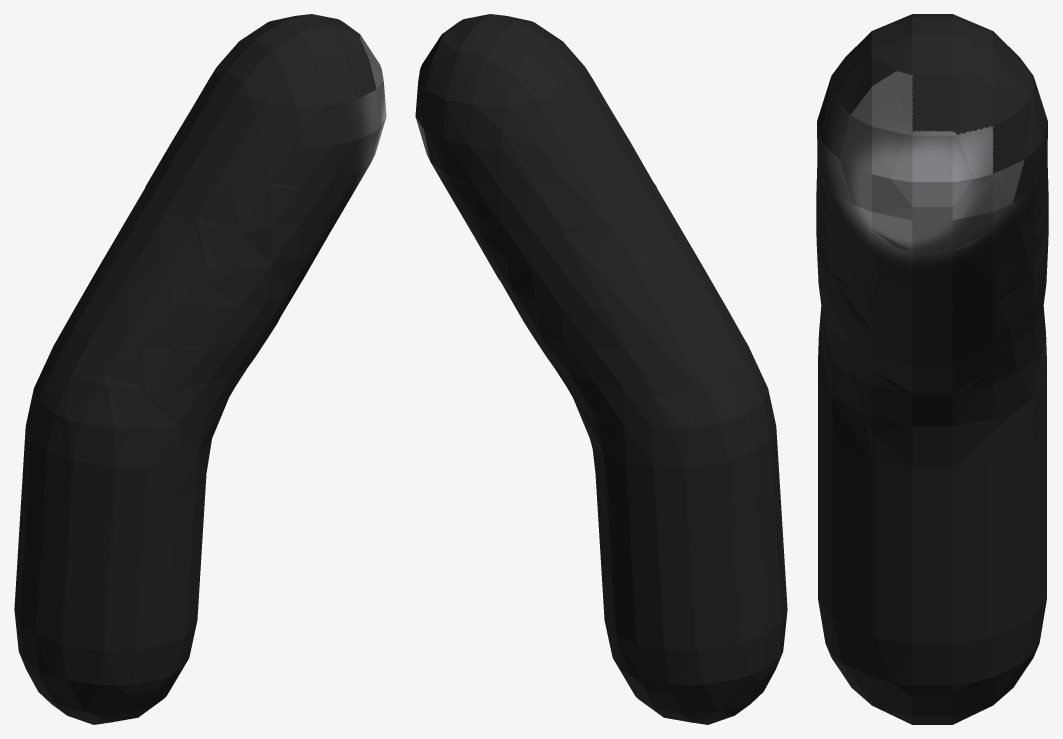
Rendered from PINCER_FINGER2.glb.
The picture shows the model from 3 angles, left to right: view 1: azimuth 30°, elevation 25°; view 2: azimuth 150°, elevation 25°; view 3: azimuth 270°, elevation 25°; orthographic projection. The views are drawn at different scales.
Visible parts, largest first — view 1: PINCER_FINGER2; view 2: PINCER_FINGER2; view 3: PINCER_FINGER2.
Boxes of the visible parts, left/top/right/bottom form: PINCER_FINGER2: left=14, top=14, right=386, bottom=724; PINCER_FINGER2: left=415, top=14, right=787, bottom=724; PINCER_FINGER2: left=816, top=14, right=1048, bottom=724.
Bounding box in the file's own units: 0.0601 × 0.107 × 0.0276.
1 material, 1 textured.
